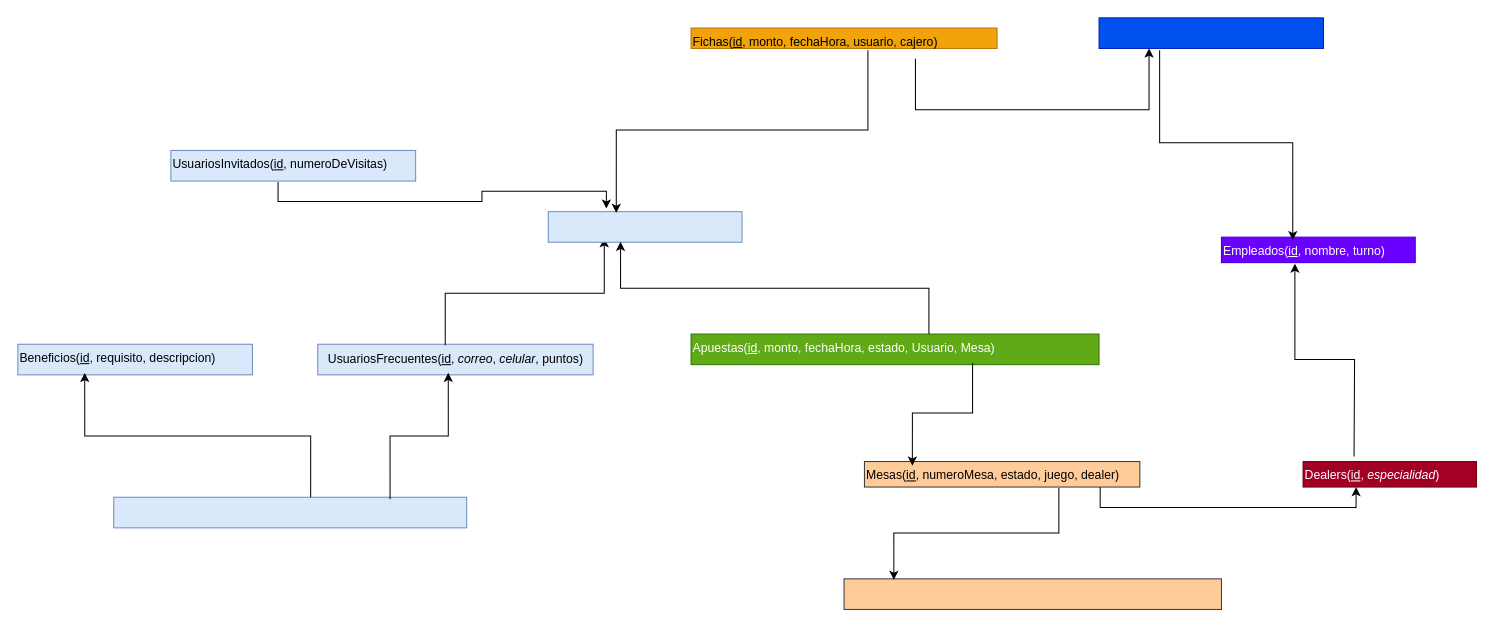
This 1494x627 diagram has some shape labels left out. Each missing label, with the centre of its shape:
Cajeros( id , nivelAcceso, ventanilla): the point at 1210,32
Juegos( id , nombre, maxJugadores, minApuesta, maxApuesta): the point at 1032,593
Usuarios( id , nombre, balance): the point at 644,226
UsuariosFrecuentes_Beneficios(b eneficio, usuarioFrecuente ): the point at 290,512
